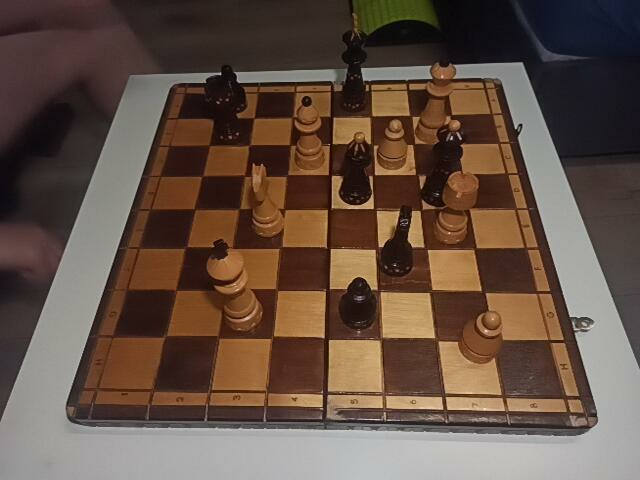B-Bishop: (338, 132, 373, 204)
B-King: (340, 13, 369, 112)
B-Knight: (381, 205, 416, 275)
B-Pawn: (337, 278, 378, 329), (216, 65, 248, 113)
B-Queen: (422, 120, 465, 207)
B-Rook: (205, 75, 243, 143)
W-Bishop: (294, 97, 326, 170)
W-King: (206, 240, 264, 330)
W-Knight: (249, 162, 285, 235)
W-Pawn: (460, 311, 504, 364), (378, 120, 409, 170)
W-Queen: (416, 58, 457, 144)
W-Rook: (434, 171, 479, 244)
